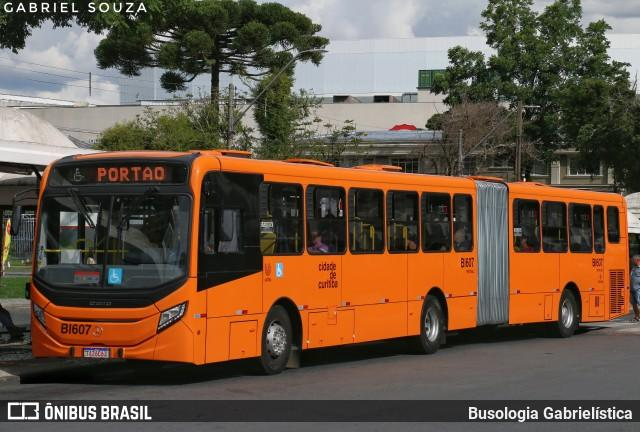PORTAO: (93, 164, 169, 186)
